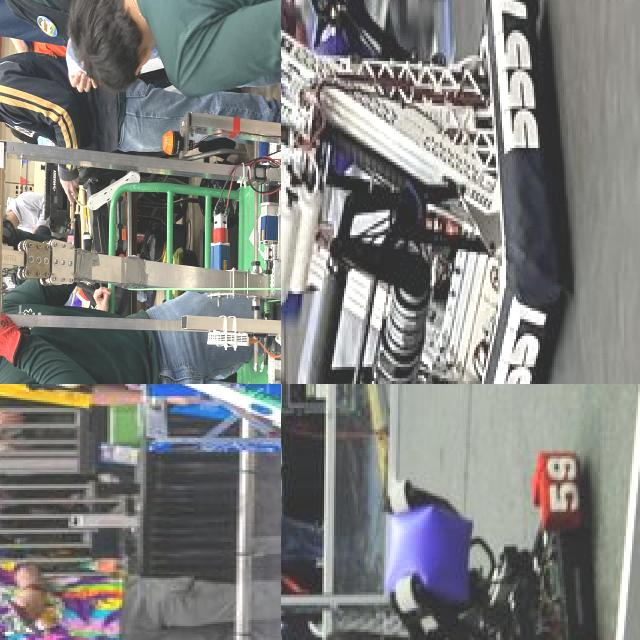FRC-Robots: (281, 0, 632, 384), (0, 22, 281, 384), (281, 401, 640, 640), (87, 384, 281, 531)
